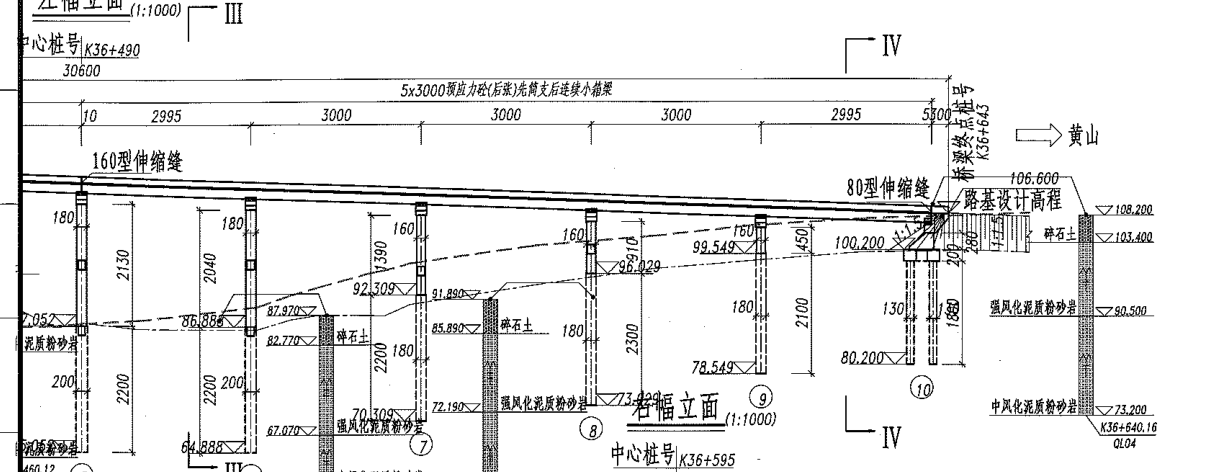B: (76, 73, 962, 106)
C: (170, 192, 275, 472), (343, 196, 441, 461), (18, 184, 108, 471), (828, 230, 943, 402), (685, 205, 780, 413), (546, 201, 609, 445)
